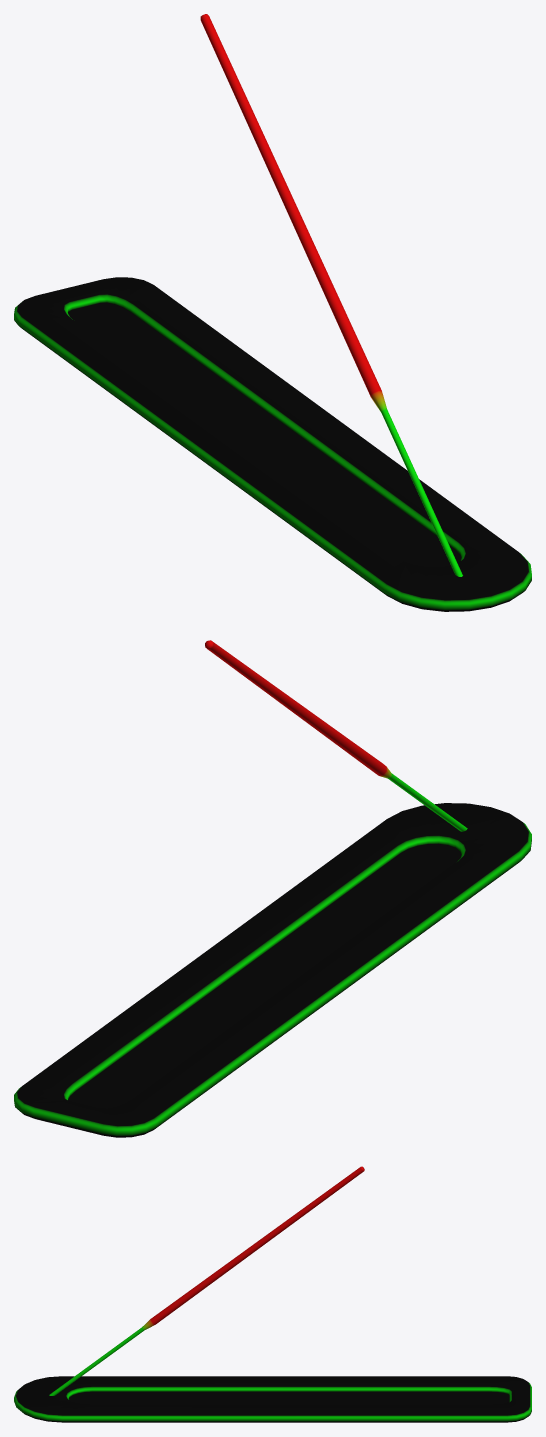
The model's file is incense.fbx.
3 renders of one model, top to bottom at view 1: azimuth 30°, elevation 25°; view 2: azimuth 150°, elevation 25°; view 3: azimuth 270°, elevation 25°, orthographic. The views are drawn at different scales.
Parts seen in each view (by area): view 1: incense; view 2: incense; view 3: incense.
Boxes of the visible parts, x1,y1,x2,y2 form: incense: [14, 14, 531, 611]; incense: [14, 640, 531, 1137]; incense: [14, 1166, 531, 1422].
Bounding box in the file's own units: 90.21 × 243 × 483.
